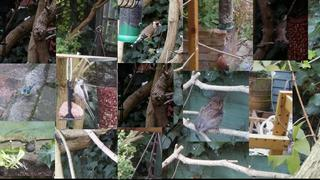blue tit: (21, 84, 36, 102)
dunnock: (194, 91, 229, 136)
goldfinch: (129, 20, 163, 49)
long tailed tit: (72, 78, 97, 124)
mouse: (275, 20, 288, 44)
sparrow: (22, 141, 35, 154)
